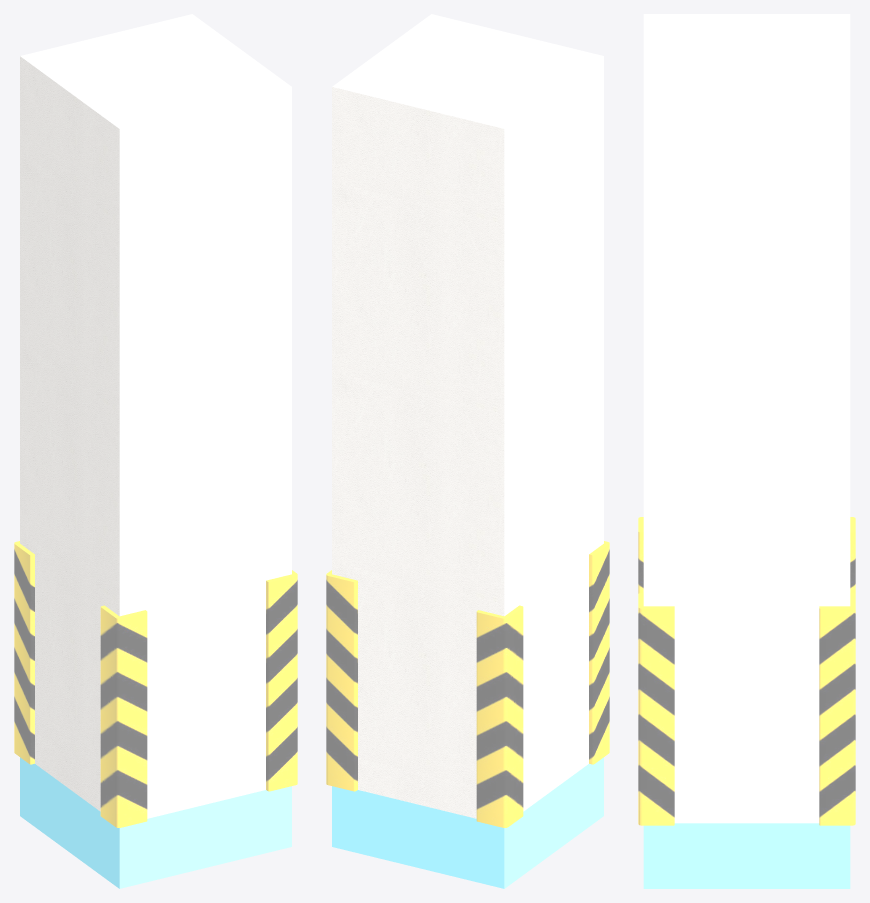
File: Parking_StructurePillar.glb
3 views of the same model, side by side, from view 1: azimuth 30°, elevation 25°; view 2: azimuth 150°, elevation 25°; view 3: azimuth 270°, elevation 25° (orthographic). The views are drawn at different scales.
Visible parts, largest first — view 1: Parking_StructurePillar; view 2: Parking_StructurePillar; view 3: Parking_StructurePillar.
Boxes of the visible parts, left/top/right/bottom form: Parking_StructurePillar: left=14, top=14, right=297, bottom=888; Parking_StructurePillar: left=326, top=14, right=609, bottom=888; Parking_StructurePillar: left=638, top=14, right=855, bottom=888.
Bounding box in the file's own units: 1 × 4 × 1.
3 materials, 2 textured.
